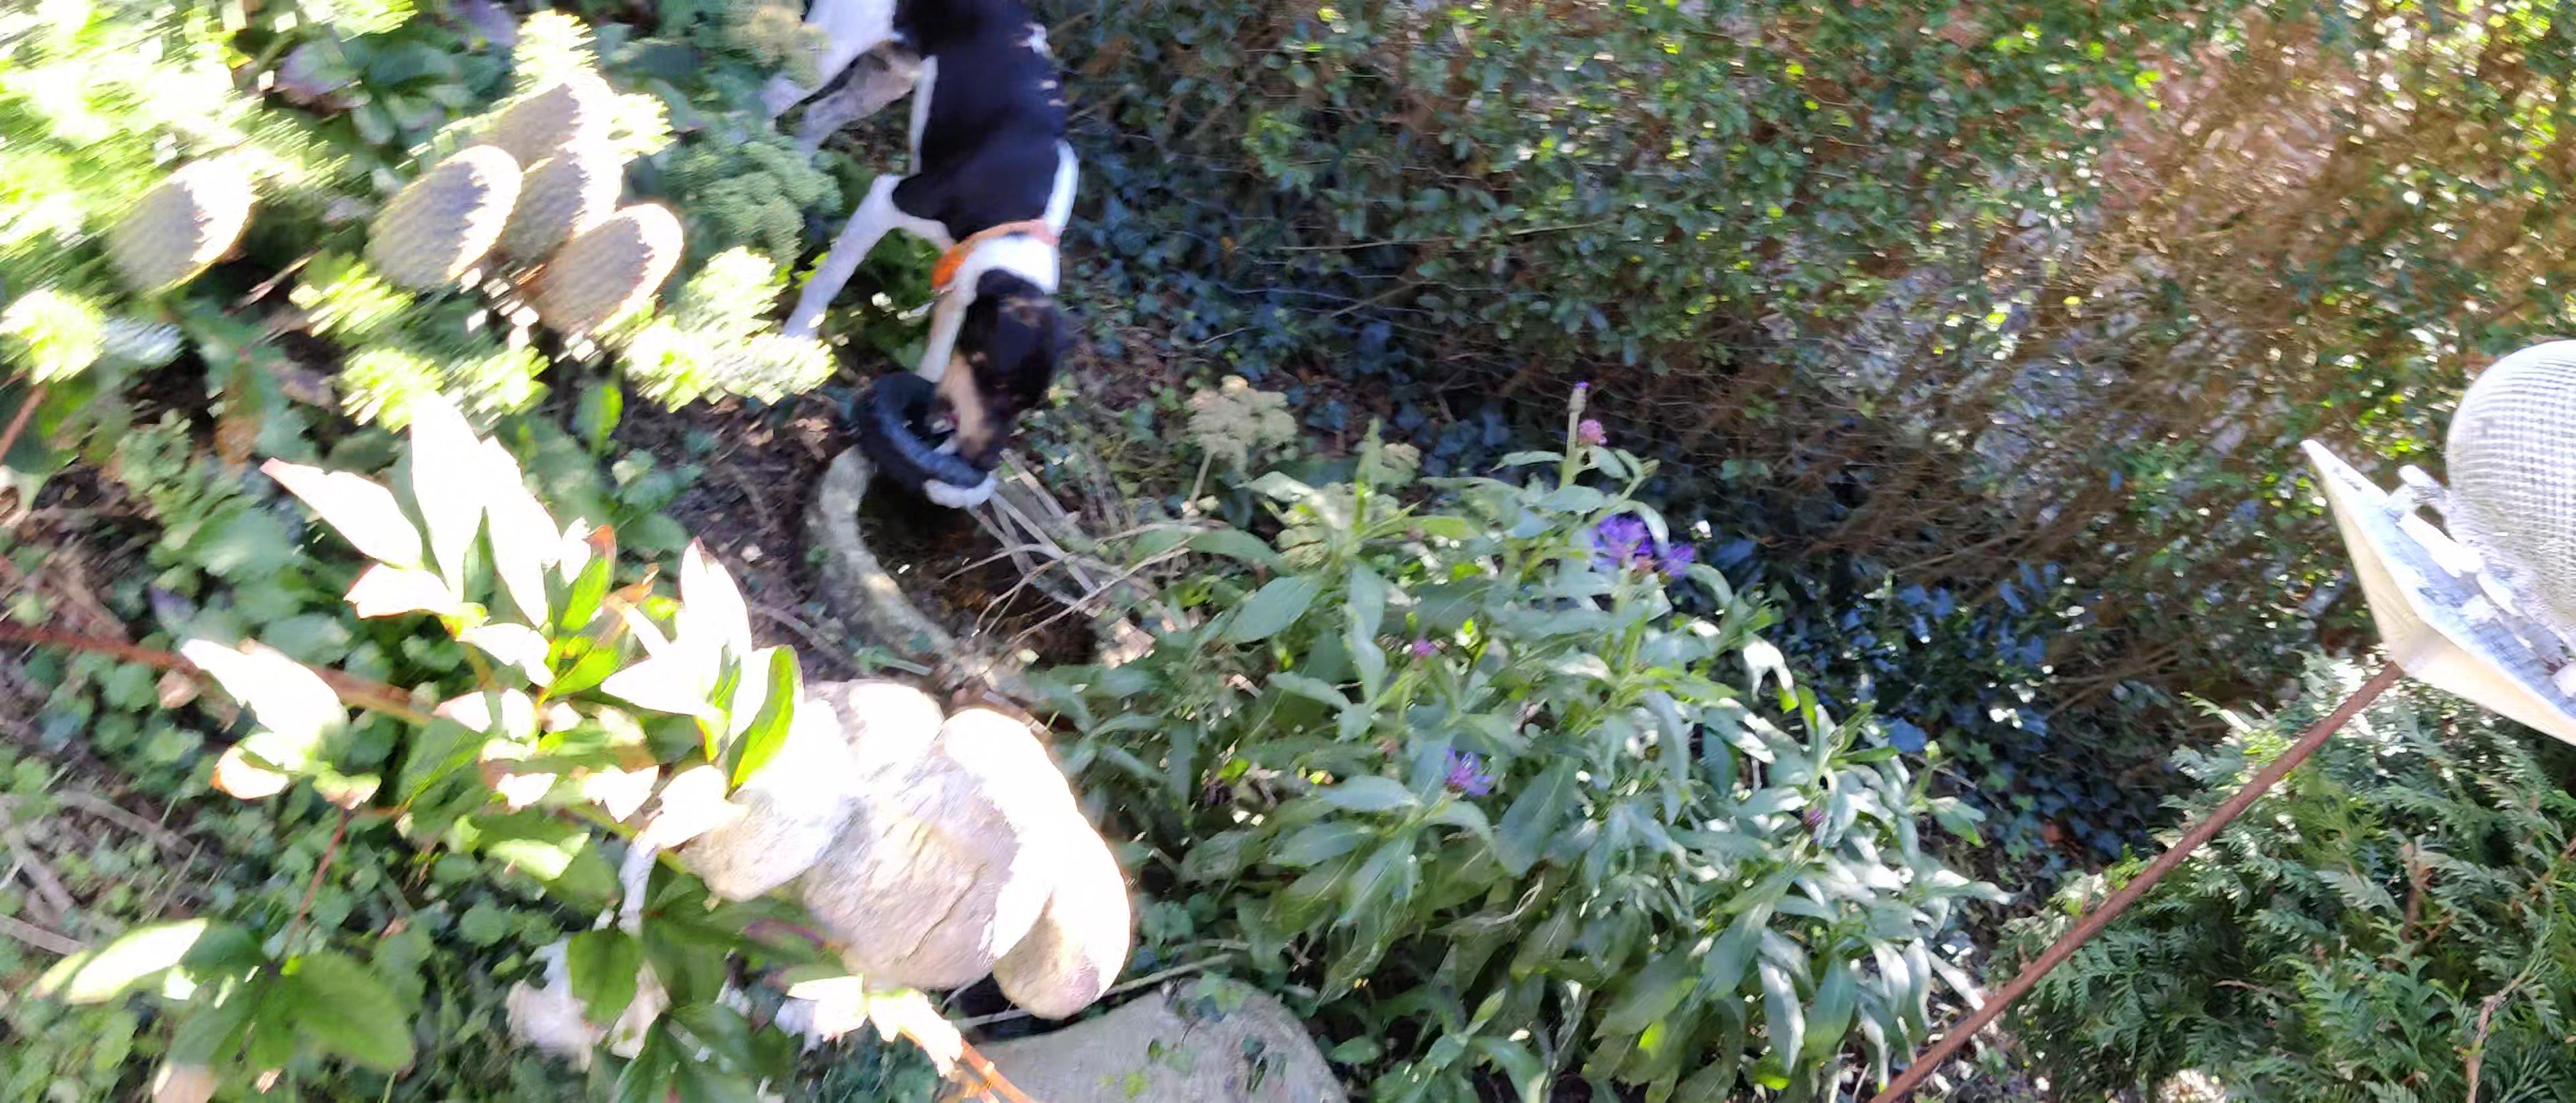Dog: (743, 0, 1084, 477)
